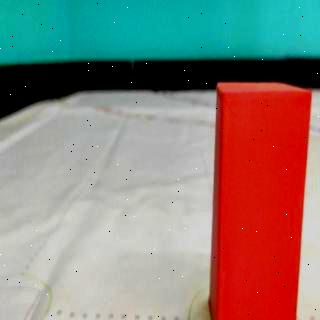redbox: (210, 82, 312, 320)
